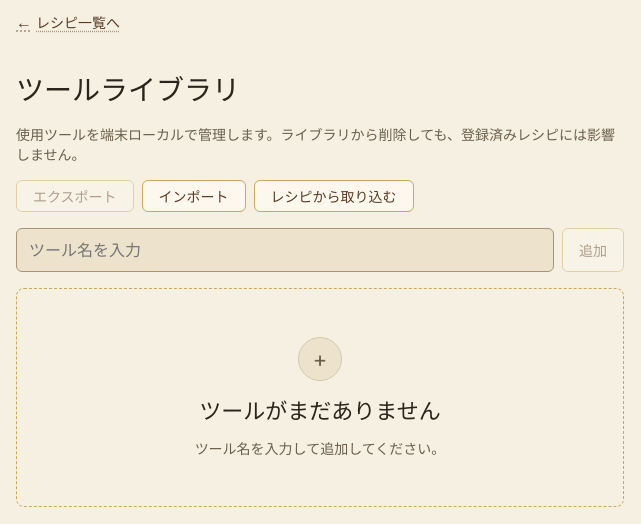
Scenario: ToolsPage › タグ付与→Dexie userTools.tagsに反映され、除去でも反映される
The image size is (641, 524).
Expected: the heading "ツールがまだありません" is shown, [199,393,441,426]
Type "筆" into the field with placeholder "ツール名を入力" at (285, 250), box [16,228,554,272]
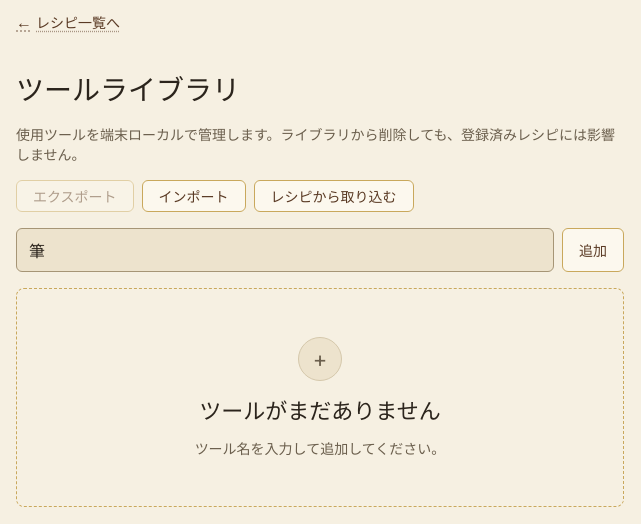
Click the button "追加" at (593, 250), box [562,228,624,272]
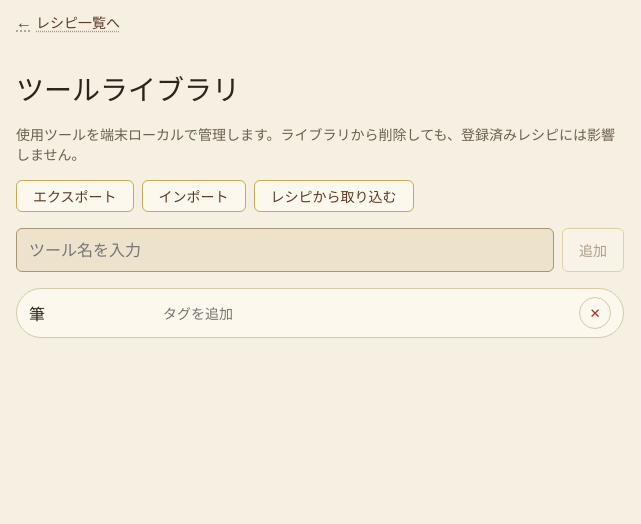
Result: the field with placeholder "ツール名を入力" is empty at [16,228,554,272]
Result: the text "筆" is shown at [29,304,45,324]
Type "#面相" into the field named "筆 にタグを追加" at (365, 313), box [159,301,571,325]
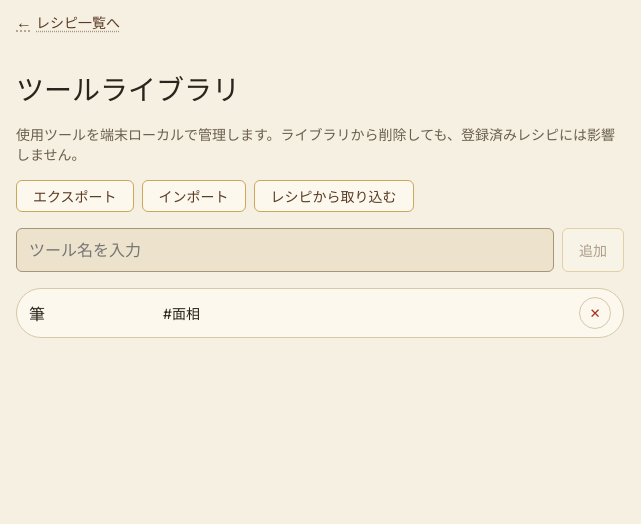
Press Enter in the field named "筆 にタグを追加", box [159,301,571,325]
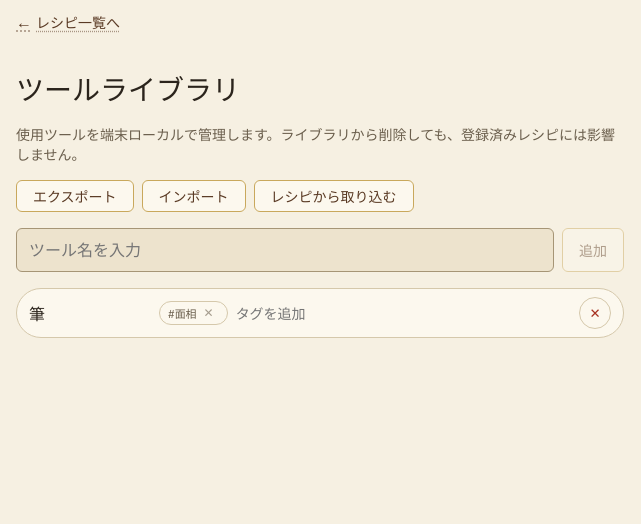
Result: the text "#面相" is shown at [168,305,197,321]
Click the button named "面相 タグを除去 筆" at (209, 313), box [199,303,219,323]
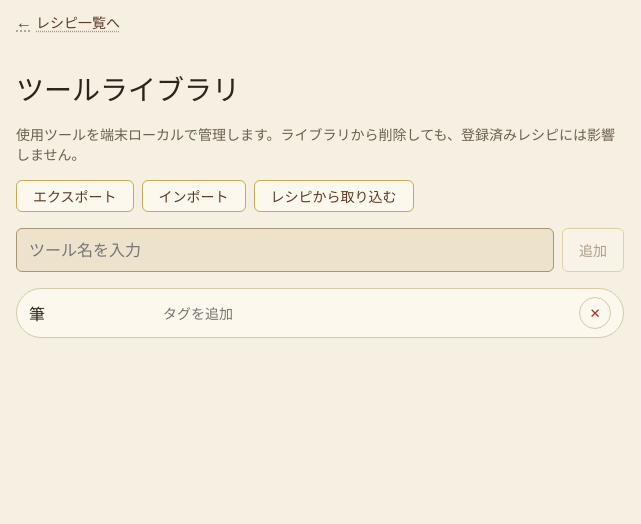
Result: the text "#面相" is gone
